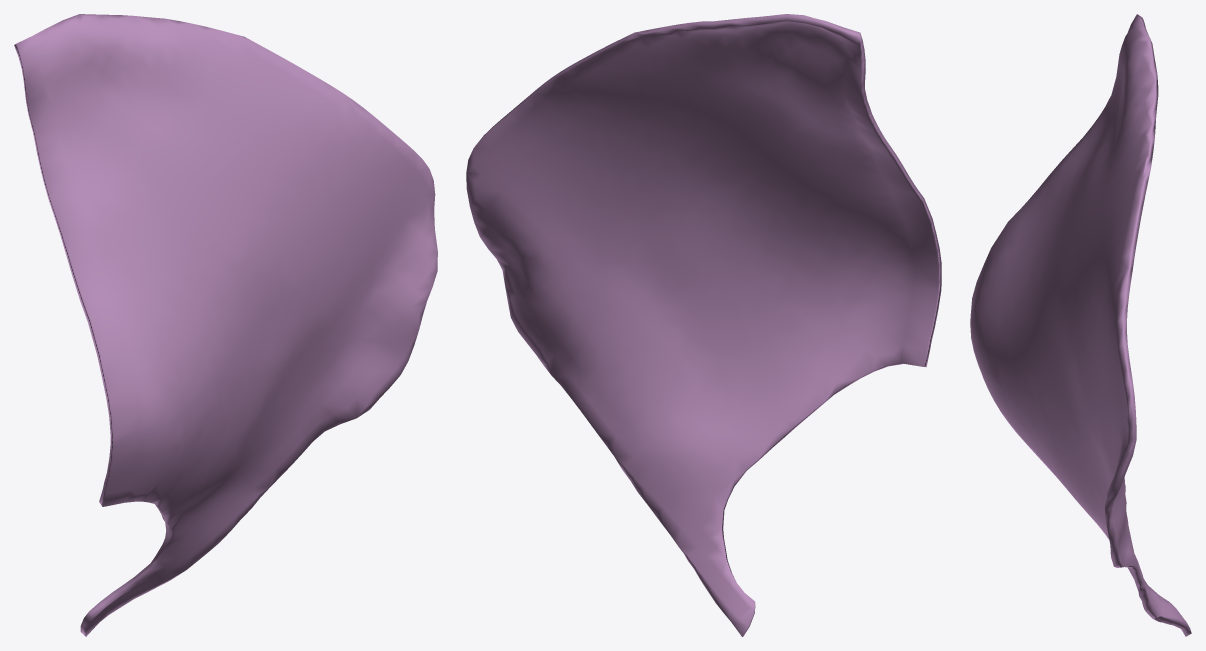
3 views of the same model, side by side, from view 1: azimuth 30°, elevation 25°; view 2: azimuth 150°, elevation 25°; view 3: azimuth 270°, elevation 25° (orthographic). The views are drawn at different scales.
Visible parts, largest first — view 1: 左侧小脑幕; view 2: 左侧小脑幕; view 3: 左侧小脑幕.
Boxes of the visible parts, x1=… form: 左侧小脑幕: x1=14, y1=14, x2=437, y2=636; 左侧小脑幕: x1=466, y1=14, x2=941, y2=636; 左侧小脑幕: x1=970, y1=14, x2=1191, y2=636.
Size of the model in its own units: 0.0897 by 0.1333 by 0.0456.
